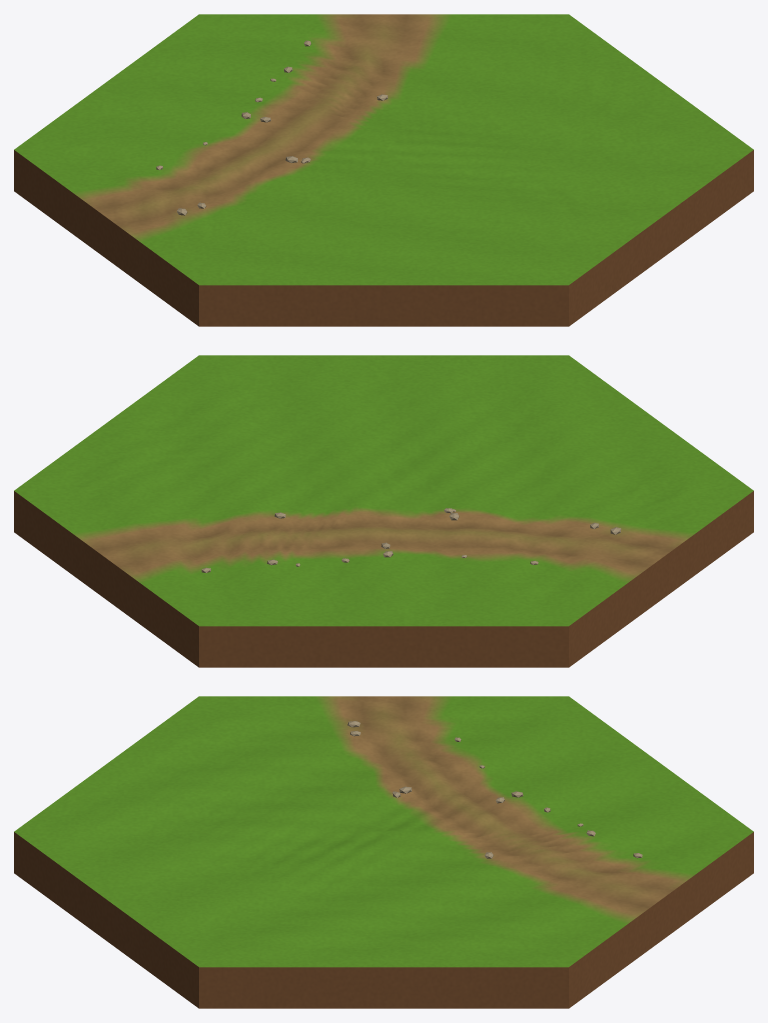
Rendered from SM_CaminoNatural_Curva_LOD0.fbx.
3 views of the same model, one above another, from view 1: azimuth 30°, elevation 25°; view 2: azimuth 150°, elevation 25°; view 3: azimuth 270°, elevation 25° (orthographic).
Visible parts, largest first — view 1: SM_CaminoNatural_Curva_LOD0; view 2: SM_CaminoNatural_Curva_LOD0; view 3: SM_CaminoNatural_Curva_LOD0.
Boxes of the visible parts, x1=… form: SM_CaminoNatural_Curva_LOD0: x1=14, y1=14, x2=753, y2=326; SM_CaminoNatural_Curva_LOD0: x1=14, y1=355, x2=753, y2=667; SM_CaminoNatural_Curva_LOD0: x1=14, y1=696, x2=753, y2=1008.
Bounding box in the file's own units: 1.68 × 0.1352 × 1.94.
1 material, 1 textured.
